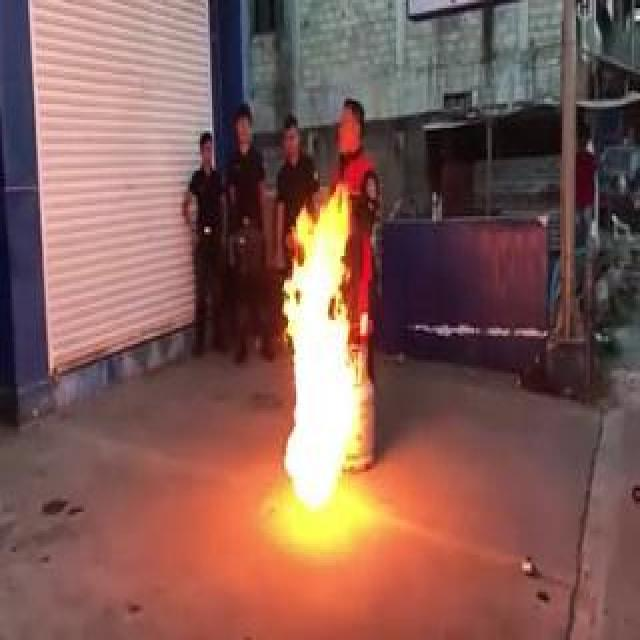Fire: (281, 174, 377, 510)
